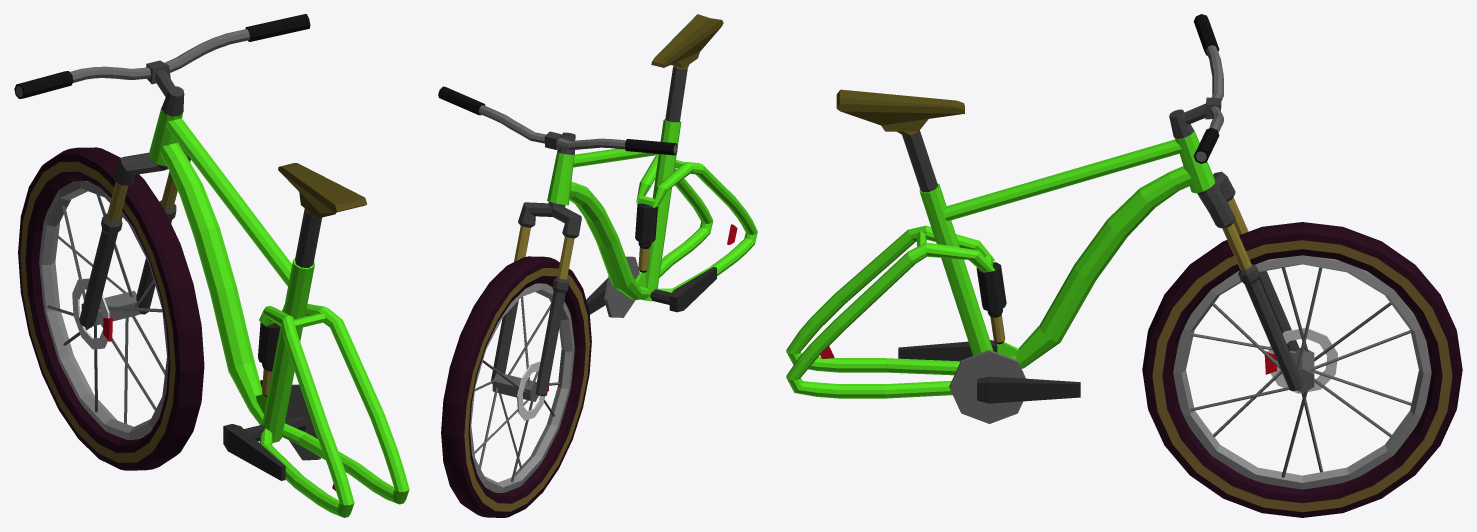
Rendered from MTB_Fullsus.fbx.
3 views of the same model, side by side, from view 1: azimuth 30°, elevation 25°; view 2: azimuth 150°, elevation 25°; view 3: azimuth 270°, elevation 25° (orthographic). The views are drawn at different scales.
Parts seen in each view (by area): view 1: WheelSet, FrontTriangle, RearTriangle, ForkSet, HandleBars, SaddleSet, CrankSet, Stem, RearShock; view 2: WheelSet, FrontTriangle, RearTriangle, ForkSet, SaddleSet, HandleBars, CrankSet, RearShock, Stem; view 3: WheelSet, FrontTriangle, RearTriangle, CrankSet, ForkSet, SaddleSet, HandleBars, RearShock, Stem.
Boxes of the visible parts, left/top/right/bottom form: WheelSet: left=18, top=147, right=204, bottom=470; FrontTriangle: left=149, top=106, right=314, bottom=442; RearTriangle: left=259, top=304, right=409, bottom=517; ForkSet: left=79, top=144, right=190, bottom=341; HandleBars: left=14, top=14, right=310, bottom=98; SaddleSet: left=278, top=163, right=366, bottom=267; CrankSet: left=223, top=380, right=320, bottom=480; Stem: left=146, top=60, right=184, bottom=116; RearShock: left=258, top=322, right=280, bottom=397; WheelSet: left=441, top=256, right=591, bottom=517; FrontTriangle: left=547, top=119, right=681, bottom=301; RearTriangle: left=636, top=155, right=757, bottom=292; ForkSet: left=491, top=202, right=581, bottom=396; SaddleSet: left=651, top=14, right=723, bottom=122; HandleBars: left=438, top=86, right=677, bottom=155; CrankSet: left=586, top=256, right=716, bottom=317; RearShock: left=635, top=203, right=657, bottom=272; Stem: left=544, top=131, right=575, bottom=154; WheelSet: left=1142, top=222, right=1462, bottom=517; FrontTriangle: left=919, top=129, right=1214, bottom=368; RearTriangle: left=786, top=225, right=995, bottom=398; CrankSet: left=898, top=340, right=1080, bottom=423; ForkSet: left=1197, top=171, right=1303, bottom=391; SaddleSet: left=836, top=89, right=964, bottom=192; HandleBars: left=1193, top=14, right=1223, bottom=163; RearShock: left=976, top=262, right=1006, bottom=344; Stem: left=1169, top=97, right=1221, bottom=138.
Size of the model in its own units: 44.54 by 65.68 by 92.88.
